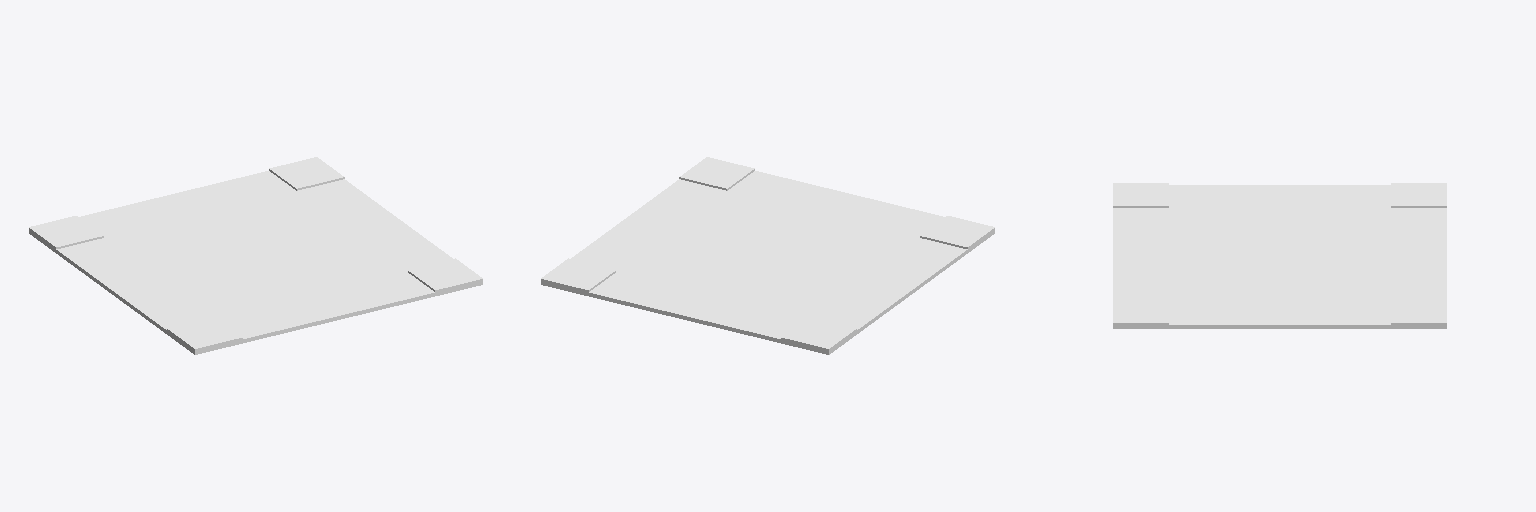
File: ROAD_15x15_4_cross.obj
The picture shows the model from 3 angles: view 1: azimuth 30°, elevation 25°; view 2: azimuth 150°, elevation 25°; view 3: azimuth 270°, elevation 25°; orthographic projection.
Parts seen in each view (by area): view 1: grid1; view 2: grid1; view 3: grid1.
Part boxes in pixels (left/top/right/bottom): grid1: left=29, top=157, right=482, bottom=354; grid1: left=541, top=157, right=994, bottom=354; grid1: left=1113, top=183, right=1446, bottom=328.
Size of the model in its own units: 15 by 0.3 by 15.